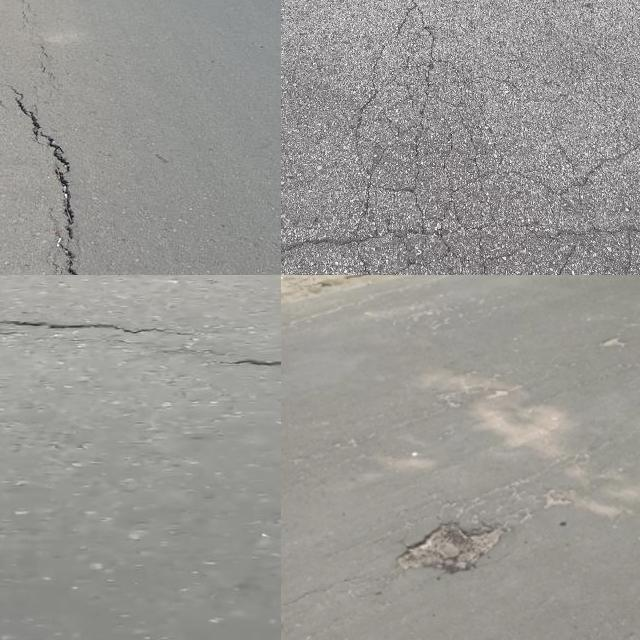Lubang: (411, 515, 511, 579)
Melintang: (0, 307, 281, 384), (281, 213, 640, 265)
Memanjang: (0, 46, 90, 275), (403, 0, 446, 221)
